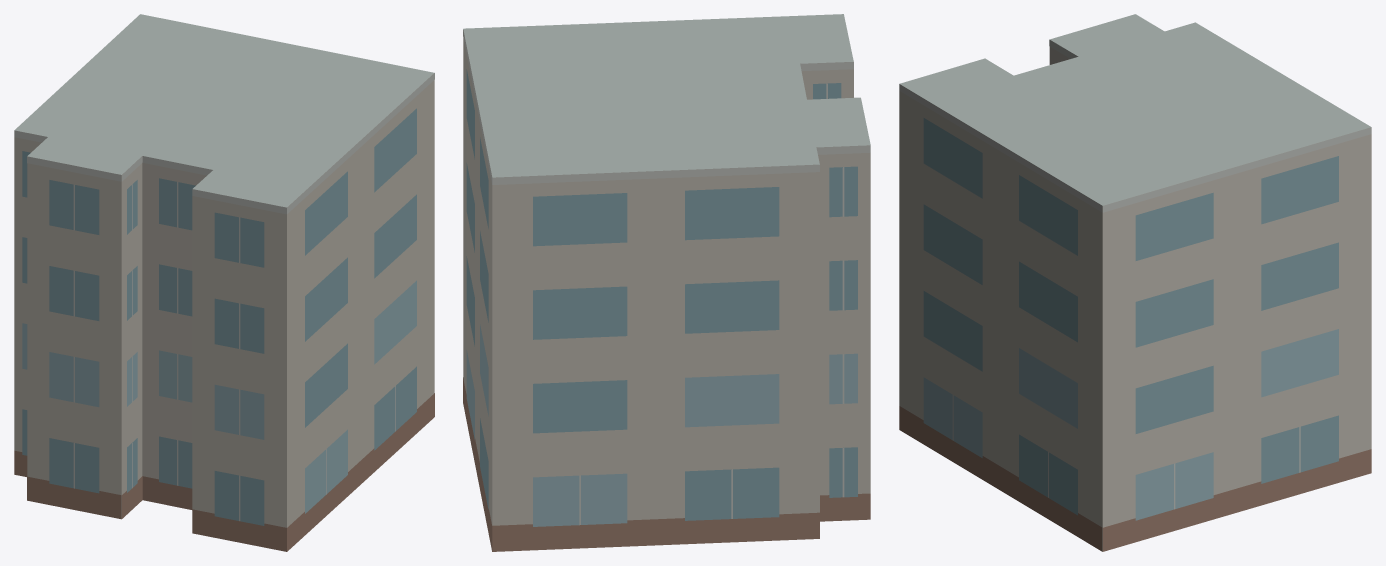
File: survey-upis-33043474.glb
3 renders of one model, left to right at view 1: azimuth 30°, elevation 25°; view 2: azimuth 150°, elevation 25°; view 3: azimuth 270°, elevation 25°, orthographic. The views are drawn at different scales.
Parts seen in each view (by area): view 1: survey-upis-33043474.tmp; view 2: survey-upis-33043474.tmp; view 3: survey-upis-33043474.tmp.
Boxes of the visible parts, x1,y1,x2,y2 form: survey-upis-33043474.tmp: (14, 14, 434, 551); survey-upis-33043474.tmp: (463, 14, 870, 551); survey-upis-33043474.tmp: (899, 14, 1371, 551).
Bounding box in the file's own units: 14.52 × 12.2 × 15.1.
